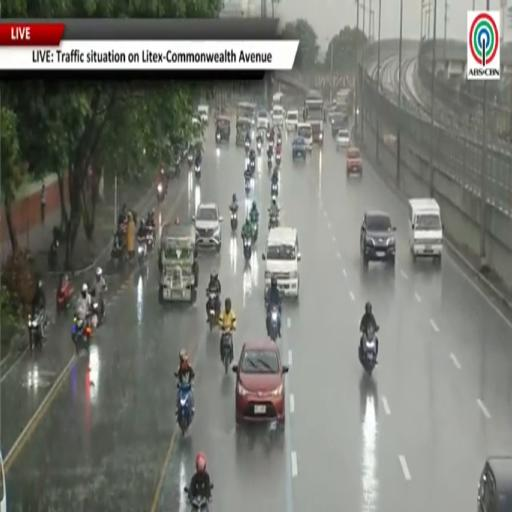car: (233, 340, 288, 425), (262, 227, 300, 300), (360, 211, 395, 266), (477, 456, 511, 511), (192, 203, 223, 250), (346, 147, 362, 177), (297, 123, 312, 153), (330, 114, 348, 137), (0, 452, 7, 511), (292, 137, 307, 161), (336, 129, 350, 150), (256, 109, 269, 131), (272, 105, 285, 127), (286, 110, 298, 132), (198, 105, 209, 124)
jeepney: (159, 223, 196, 302), (237, 102, 257, 124), (236, 118, 251, 146), (216, 116, 230, 141), (191, 118, 203, 145)
motorcycle: (359, 327, 378, 375), (177, 383, 193, 435), (71, 316, 91, 354), (27, 311, 44, 350), (56, 280, 74, 314), (90, 288, 105, 328), (111, 234, 127, 267), (207, 291, 218, 331), (222, 330, 232, 374), (269, 307, 280, 342), (48, 239, 59, 272), (189, 496, 209, 511), (138, 240, 147, 266), (243, 238, 251, 263), (146, 229, 154, 252), (174, 156, 181, 177), (157, 183, 164, 203), (269, 214, 278, 229), (252, 221, 258, 243), (231, 211, 237, 231), (271, 183, 278, 198), (249, 160, 255, 175), (275, 152, 281, 166), (188, 152, 193, 168), (245, 178, 250, 194), (195, 166, 200, 181), (276, 135, 282, 146), (245, 141, 250, 154), (257, 140, 261, 154), (268, 156, 272, 170), (266, 131, 270, 142), (216, 132, 220, 143), (269, 139, 273, 149)
truck: (304, 90, 325, 145), (336, 89, 353, 115)
